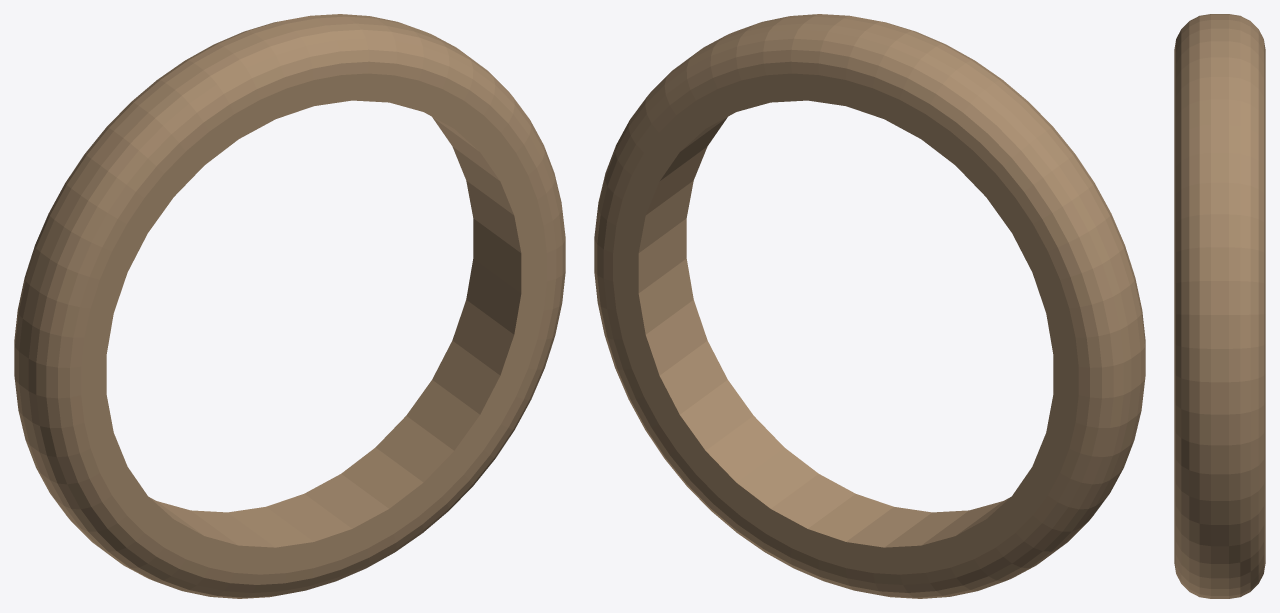
File: wheel.dae
3 renders of one model, left to right at view 1: azimuth 30°, elevation 25°; view 2: azimuth 150°, elevation 25°; view 3: azimuth 270°, elevation 25°, orthographic. The views are drawn at different scales.
Parts seen in each view (by area): view 1: Raw_Wheel; view 2: Raw_Wheel; view 3: Raw_Wheel.
Part boxes in pixels (bbox=[...]): Raw_Wheel: bbox=[14, 14, 565, 598]; Raw_Wheel: bbox=[594, 14, 1145, 598]; Raw_Wheel: bbox=[1174, 14, 1265, 598].
Bounding box in the file's own units: 0.1597 × 0.025 × 0.16.
